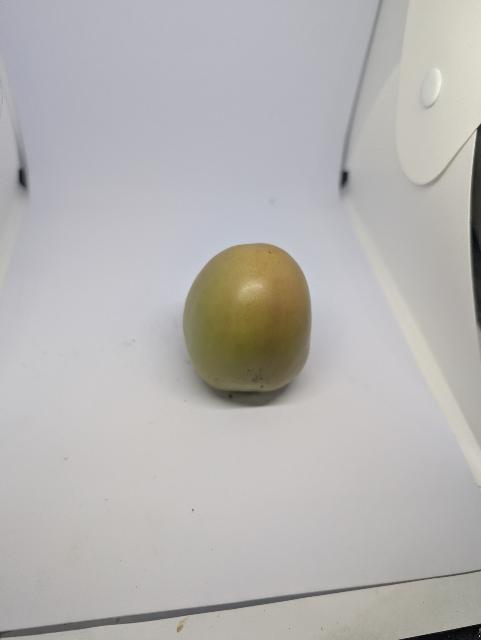breaker: (184, 243, 312, 392)
